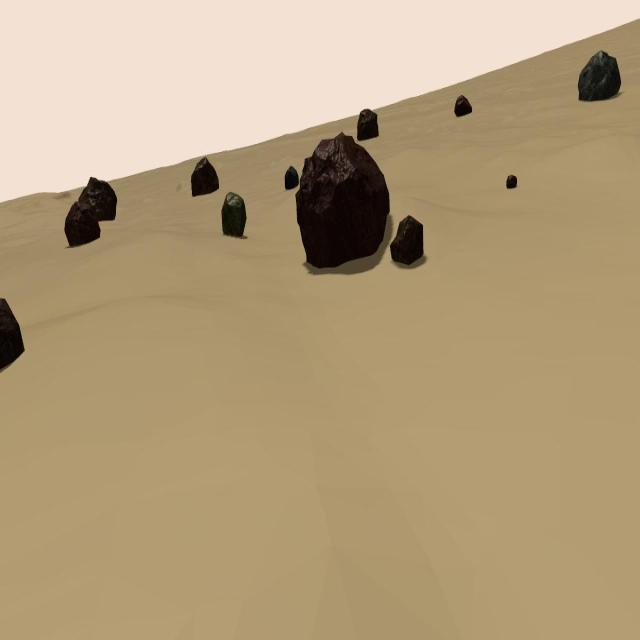rock: (295, 132, 390, 267), (578, 50, 621, 100), (1, 299, 24, 375), (79, 176, 117, 222), (390, 215, 424, 265), (64, 202, 100, 246), (222, 190, 246, 240), (192, 156, 220, 196), (357, 110, 379, 141), (284, 166, 299, 190), (455, 95, 472, 116), (506, 173, 517, 189)
